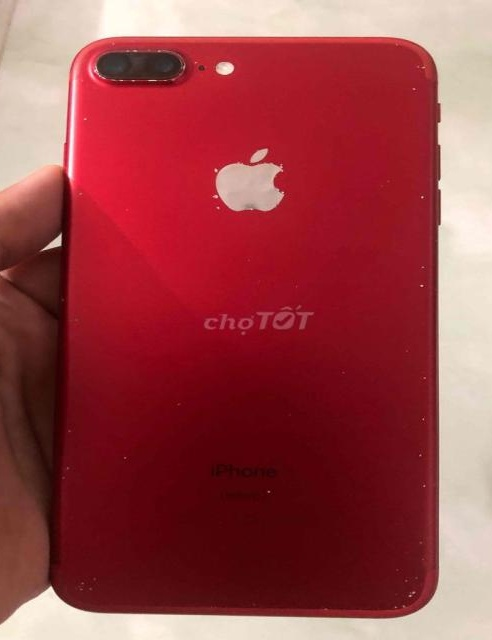scratch: (202, 137, 287, 215), (90, 45, 195, 90), (376, 532, 435, 612), (406, 367, 433, 489), (393, 36, 441, 94), (57, 566, 105, 594), (408, 250, 430, 293), (401, 185, 430, 207), (54, 460, 77, 481), (332, 358, 353, 377), (397, 340, 414, 356), (79, 109, 94, 127), (172, 395, 187, 411), (63, 422, 76, 438), (116, 452, 132, 464), (73, 185, 88, 196), (266, 481, 276, 497), (240, 598, 257, 607), (286, 405, 299, 415), (320, 606, 331, 614)
